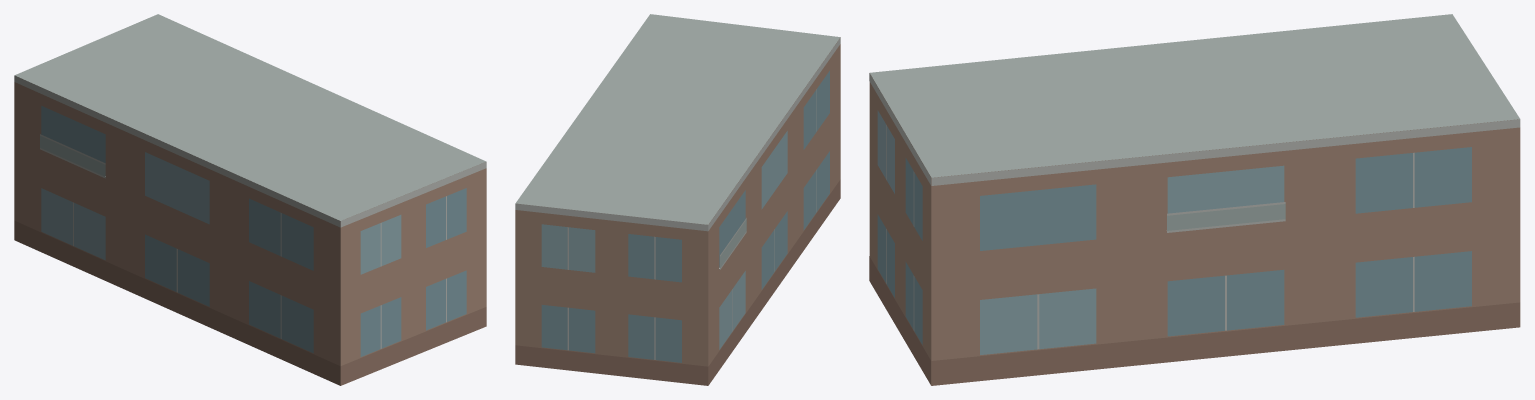
Rendered from survey-upis-32760303.glb.
3 renders of one model, left to right at view 1: azimuth 30°, elevation 25°; view 2: azimuth 150°, elevation 25°; view 3: azimuth 270°, elevation 25°, orthographic. The views are drawn at different scales.
Visible parts, largest first — view 1: survey-upis-32760303.tmp; view 2: survey-upis-32760303.tmp; view 3: survey-upis-32760303.tmp.
Part boxes in pixels (box(x1,y1,x2,y2)): survey-upis-32760303.tmp: box(14, 14, 486, 385); survey-upis-32760303.tmp: box(515, 14, 840, 385); survey-upis-32760303.tmp: box(869, 14, 1520, 385).
Size of the model in its own units: 10.3 by 6.1 by 17.3.
